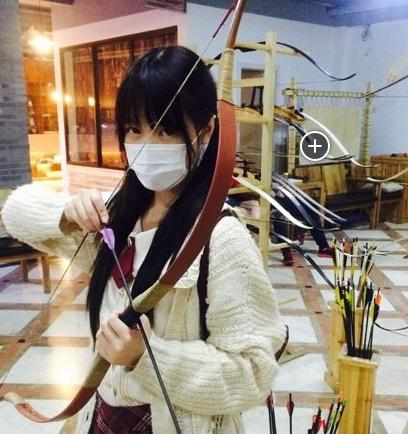OK: (122, 111, 201, 190)
